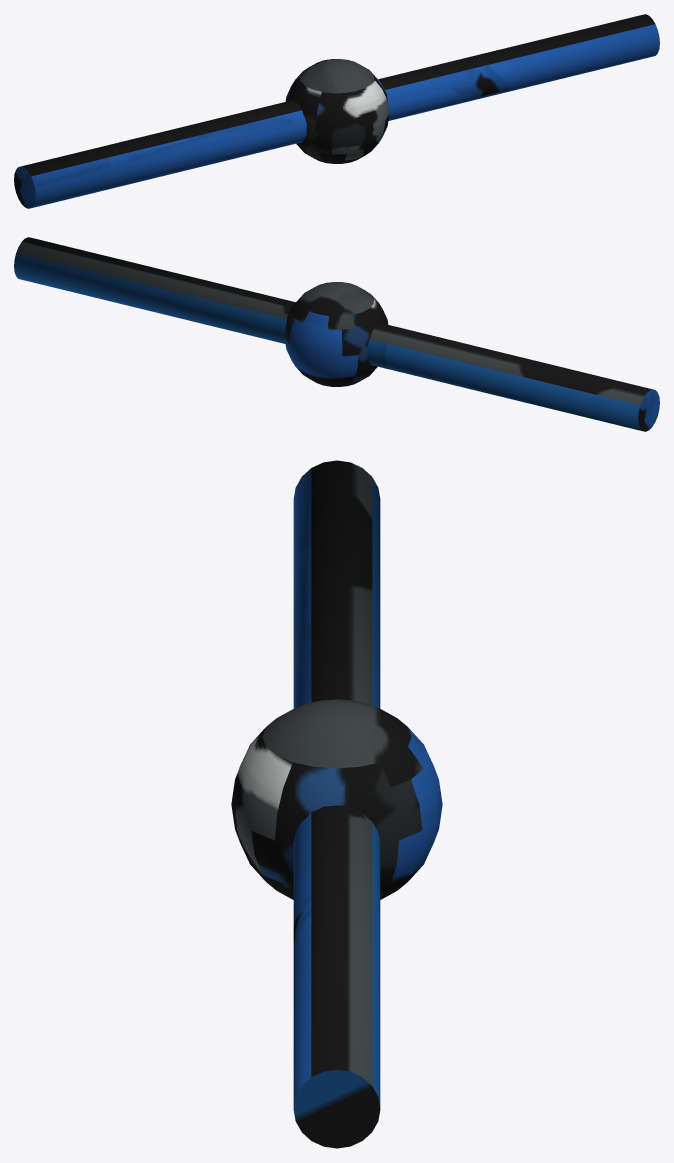
File: 1_beam.obj
The picture shows the model from 3 angles, top to bottom: view 1: azimuth 30°, elevation 25°; view 2: azimuth 150°, elevation 25°; view 3: azimuth 270°, elevation 25°; orthographic projection. The views are drawn at different scales.
Bounding box in the file's own units: 1.16 × 0.17 × 0.17.
1 material, 1 textured.
